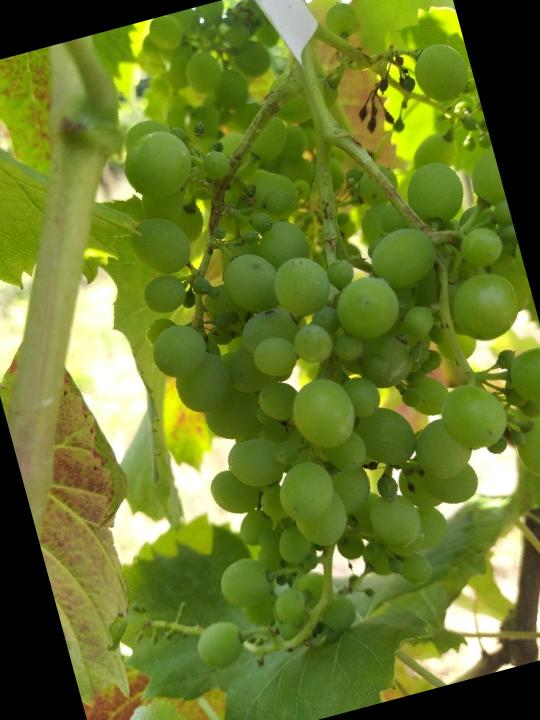grape: (55, 32, 540, 690)
